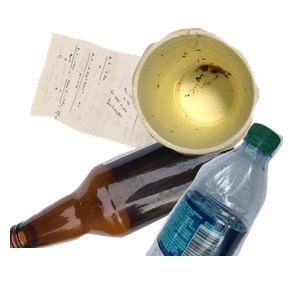glass: (10, 120, 247, 300)
paper: (27, 30, 203, 178)
plastic: (142, 120, 300, 300)
trash: (129, 25, 300, 173)
